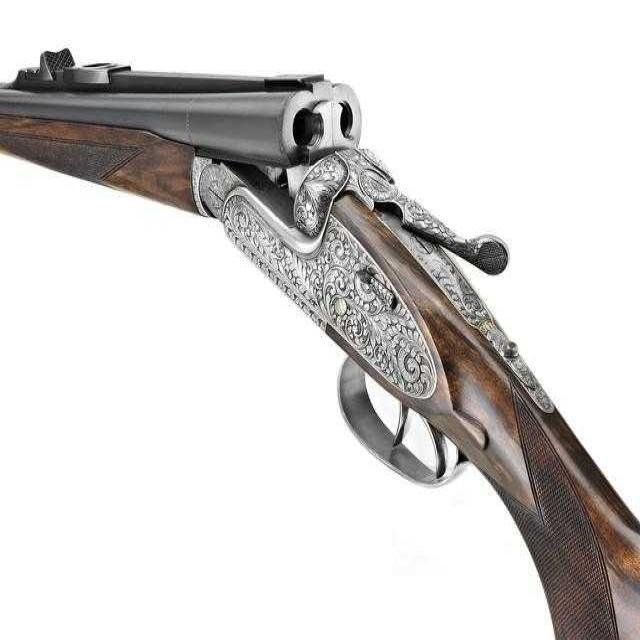weapon: (0, 37, 636, 640)
